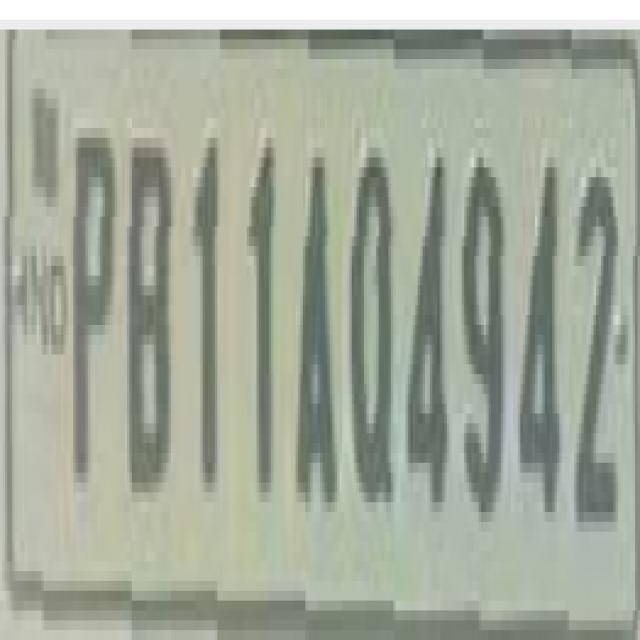1: (242, 120, 278, 514), (192, 117, 220, 483)
2: (571, 156, 623, 537)
4: (515, 143, 565, 531), (404, 143, 452, 525)
9: (456, 135, 506, 533)
A: (292, 130, 342, 519)
B: (125, 120, 175, 522)
P: (69, 114, 120, 498)
Q: (347, 133, 397, 529)
